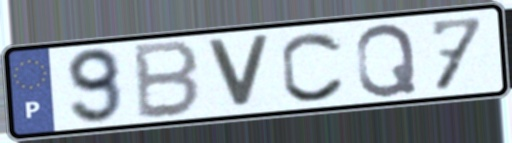7: (427, 13, 486, 93)
9: (63, 45, 127, 128)
B: (133, 38, 203, 122)
C: (278, 29, 349, 105)
Q: (352, 21, 420, 100)
V: (202, 33, 274, 111)
